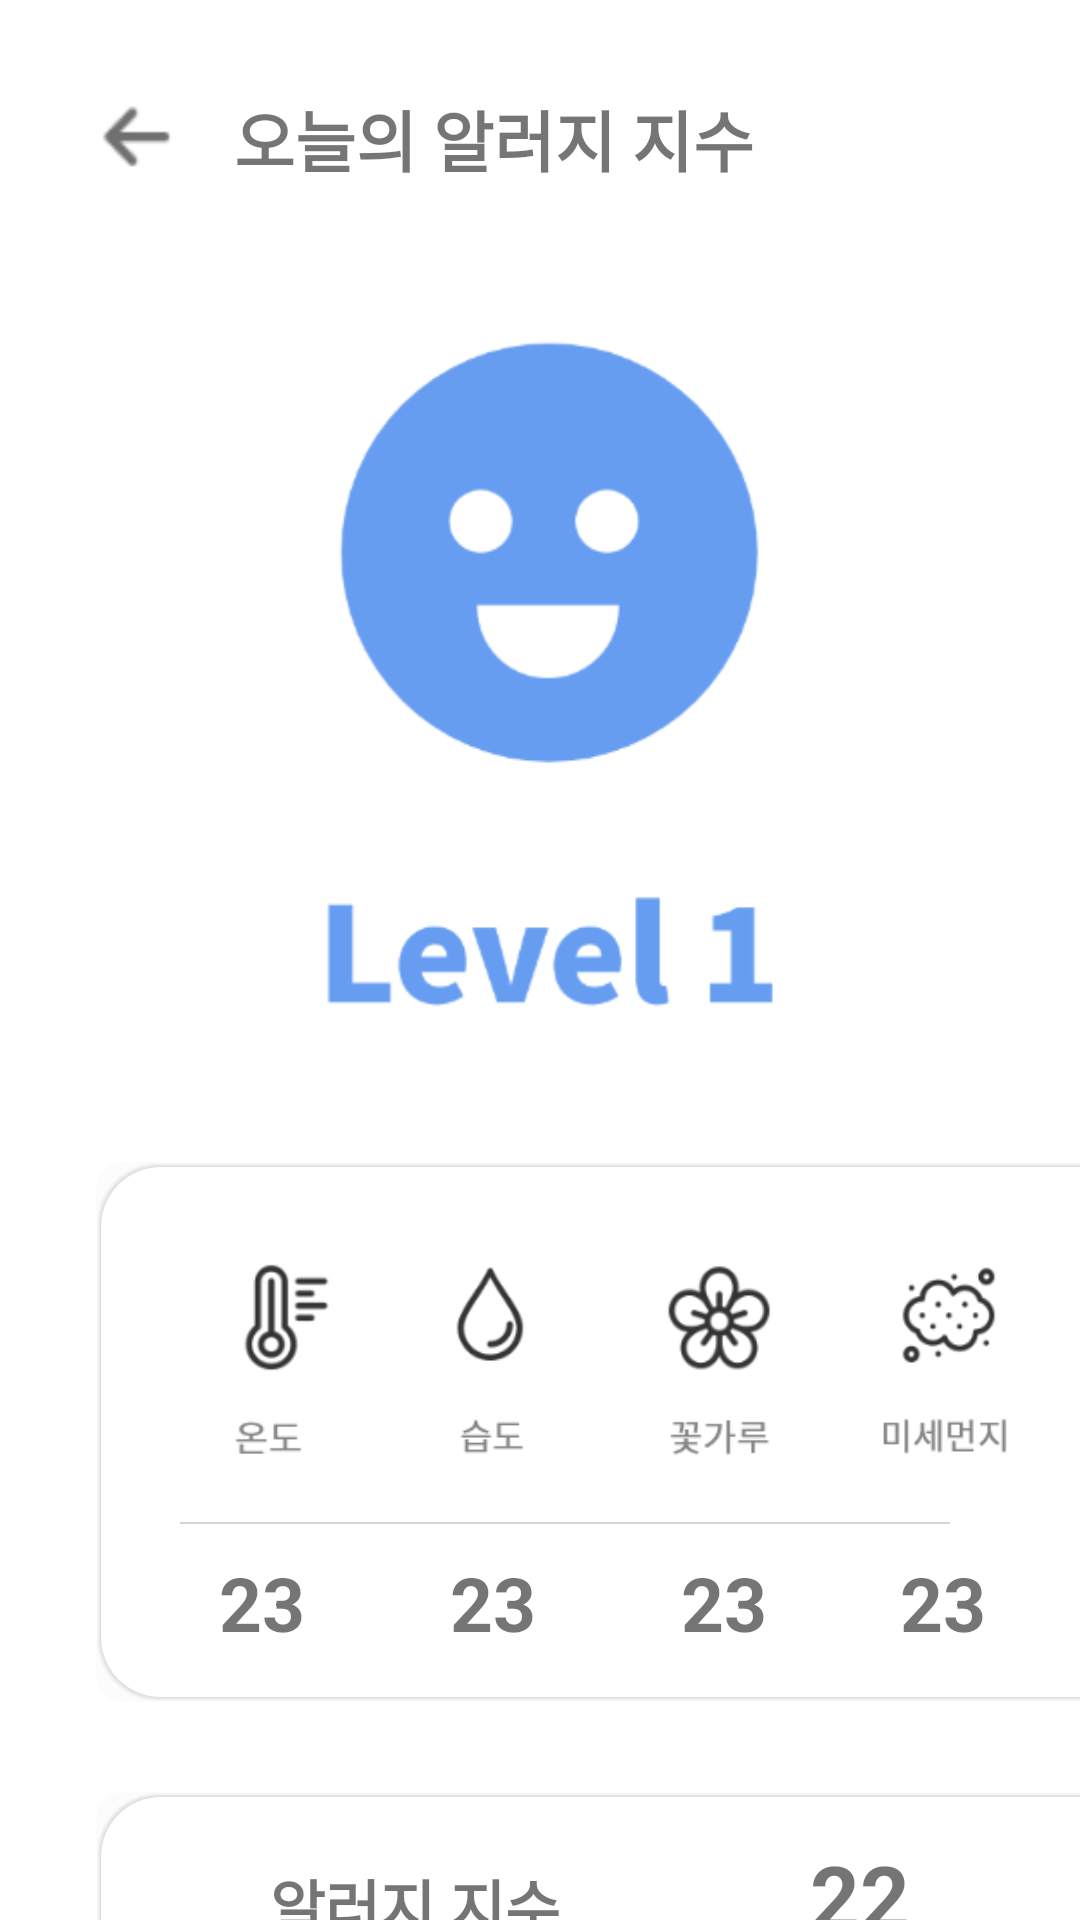

Icons on this 1080×1920 Android screen, each with its box as [left=x1, top=y1, right=x2, bottom=y2]:
todayallegybackbtn: [left=103, top=106, right=170, bottom=167]
